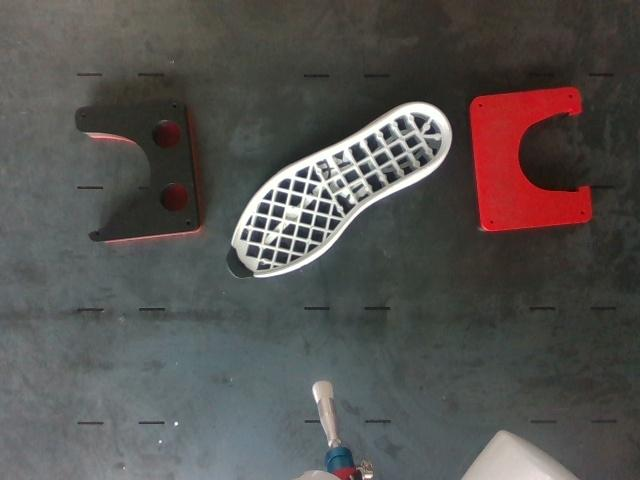shoes: (228, 104, 450, 277)
